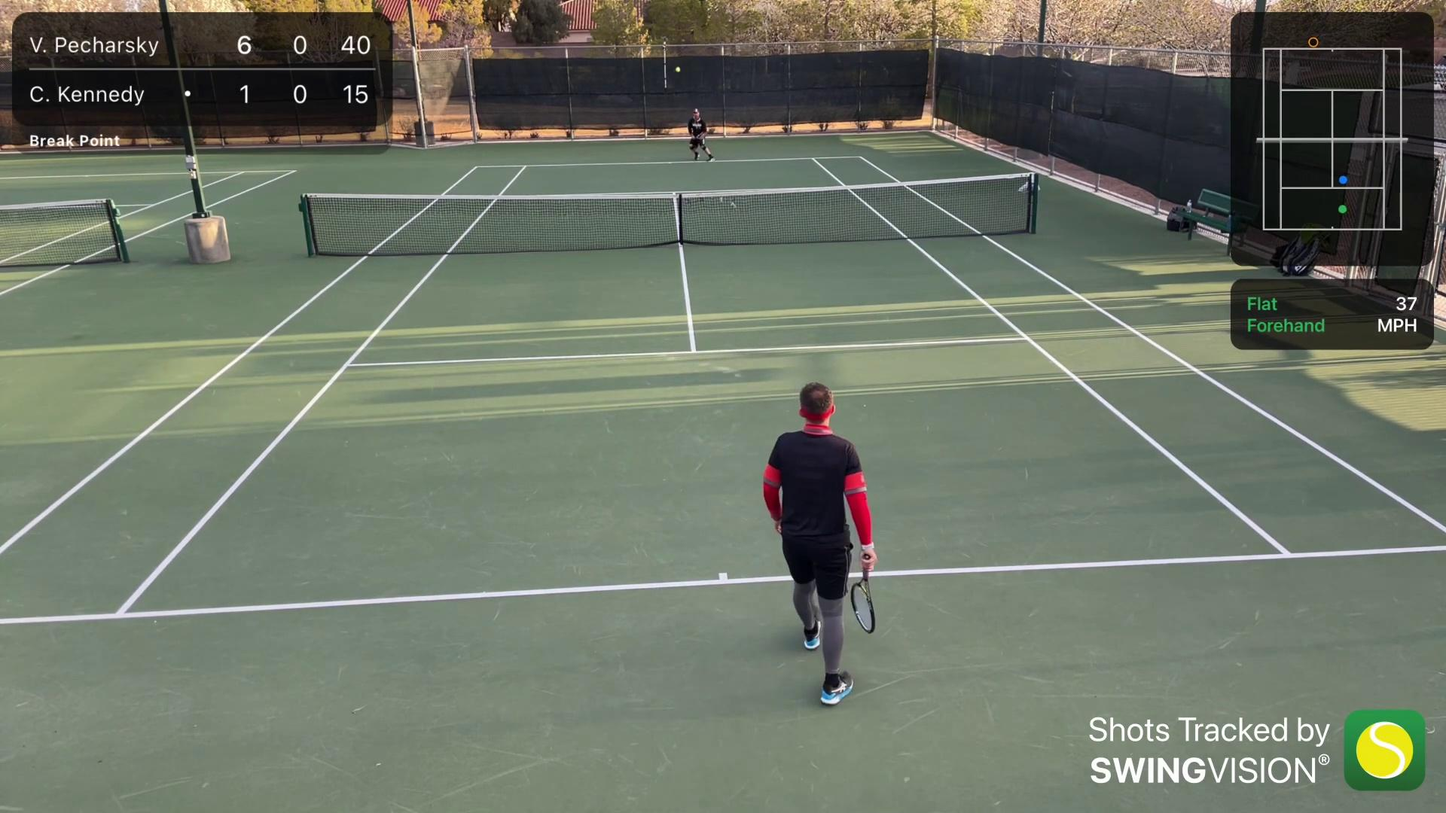ball: (675, 67, 680, 73)
